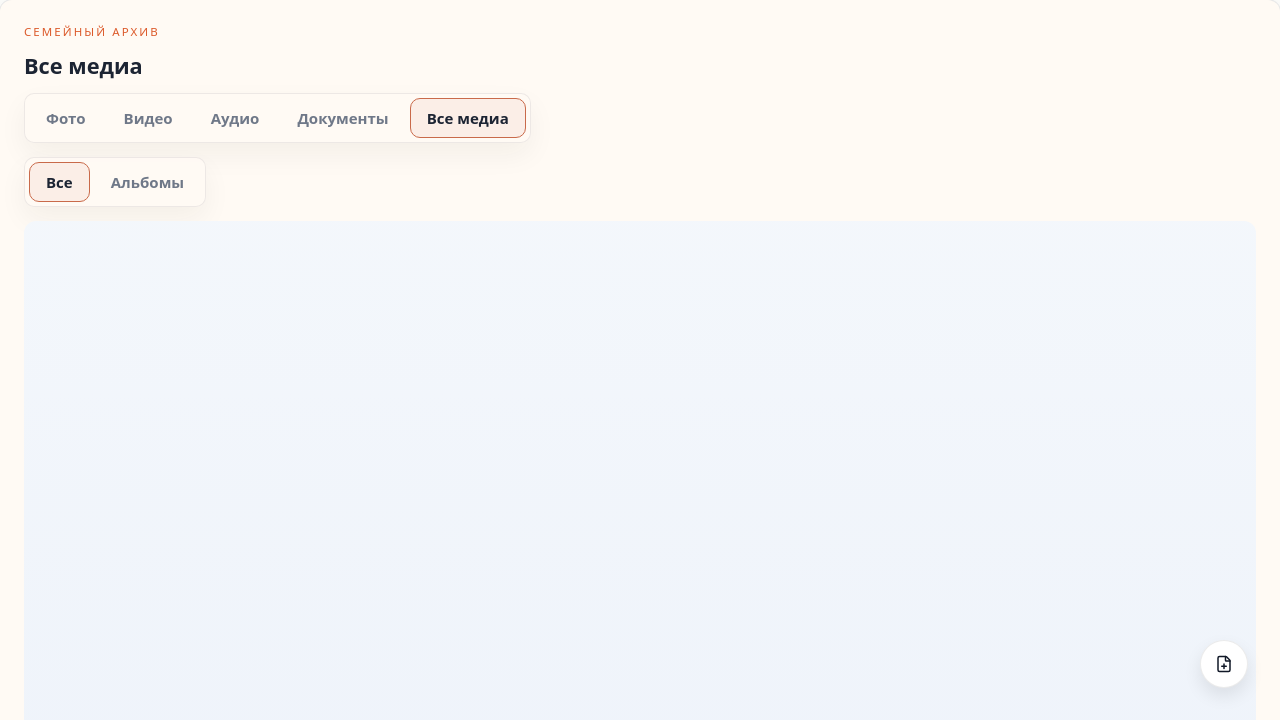
Scenario: tree media archive client › keeps the archive grid visual-first while preserving album descriptions
Click the tab "Альбомы" at (147, 182), box x1=94 y1=162 x2=201 y2=202
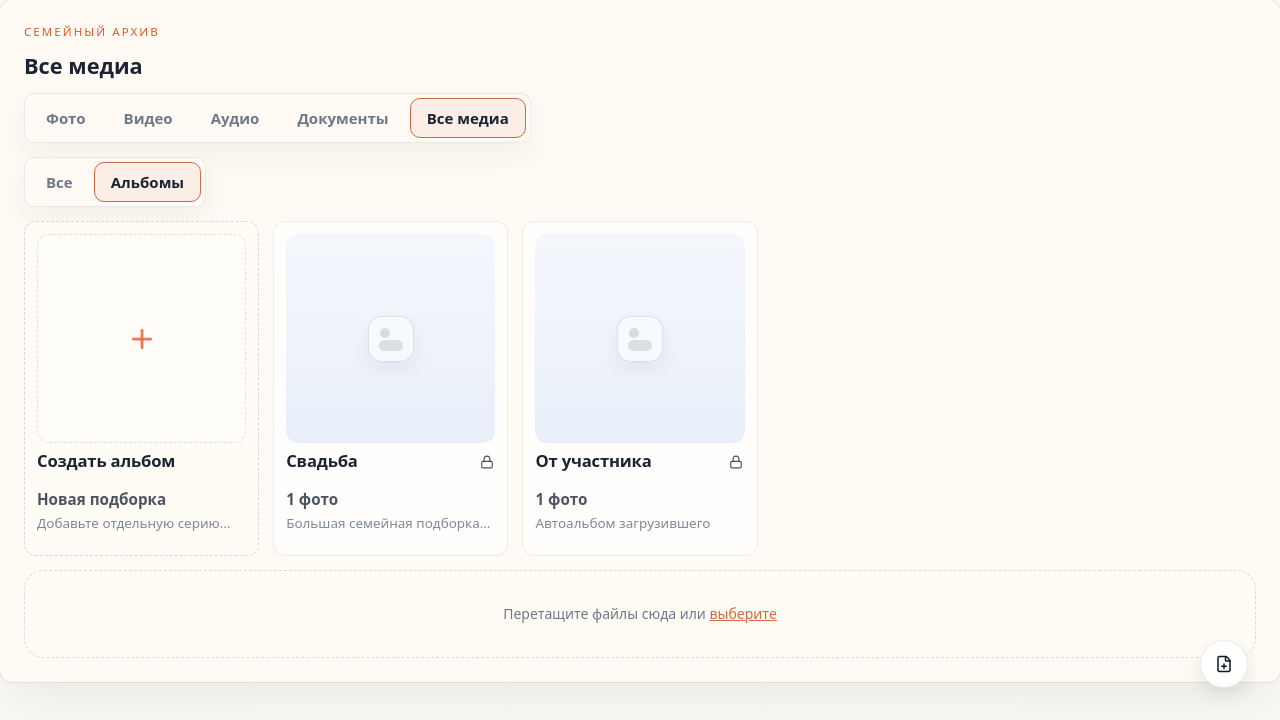
Now the text "Большая семейная подборка со свадьбы" is shown, box x1=286 y1=514 x2=495 y2=532
